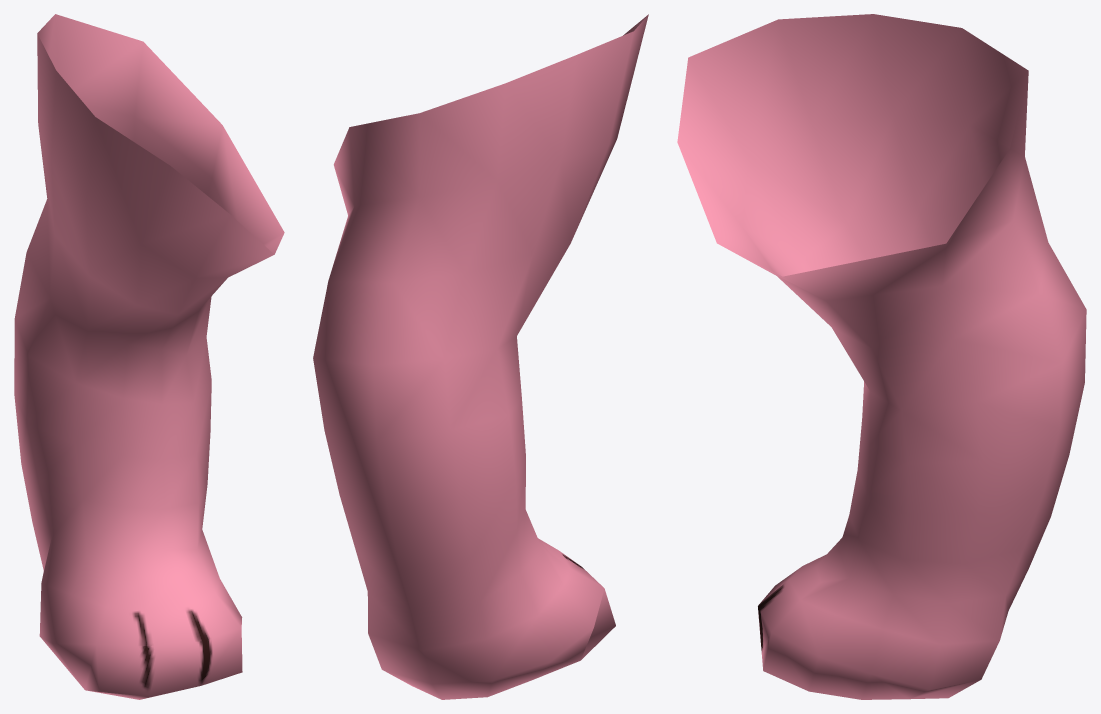
File: Leon Pata TraIzq.obj
3 renders of one model, left to right at view 1: azimuth 30°, elevation 25°; view 2: azimuth 150°, elevation 25°; view 3: azimuth 270°, elevation 25°, orthographic.
Visible parts, largest first — view 1: Pata_trasera_izquierda; view 2: Pata_trasera_izquierda; view 3: Pata_trasera_izquierda.
Part boxes in pixels (box(x1,y1,x2,y2)): Pata_trasera_izquierda: box(14, 14, 284, 699); Pata_trasera_izquierda: box(313, 14, 648, 699); Pata_trasera_izquierda: box(677, 14, 1086, 699).
Bounding box in the file's own units: 11.05 × 31.17 × 18.39.
